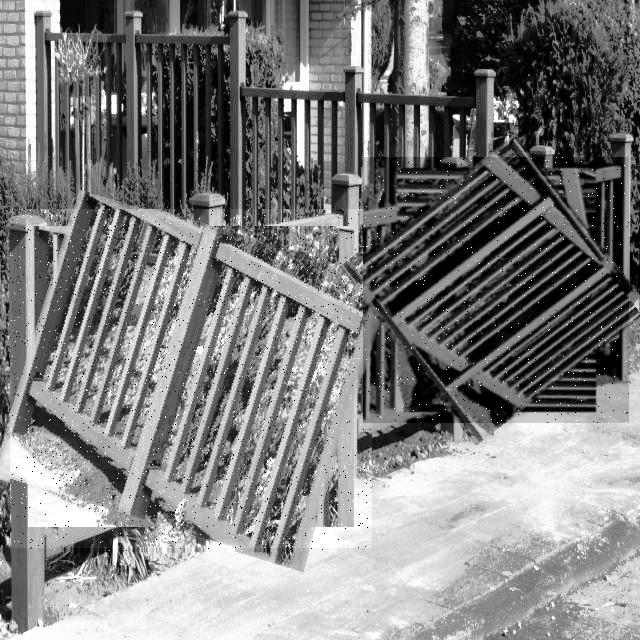fences: (10, 209, 372, 552), (363, 157, 629, 423)
